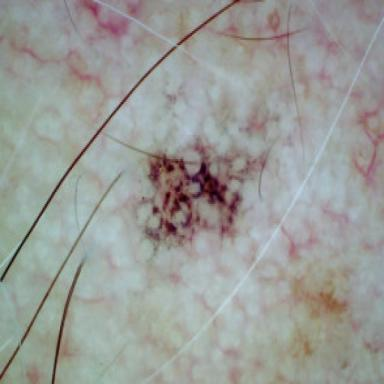Melanoma: (143, 134, 267, 251)
